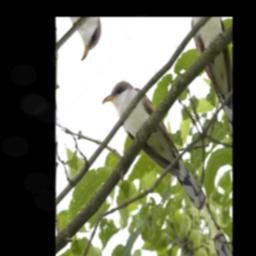Cuckoo: (100, 57, 209, 248)
